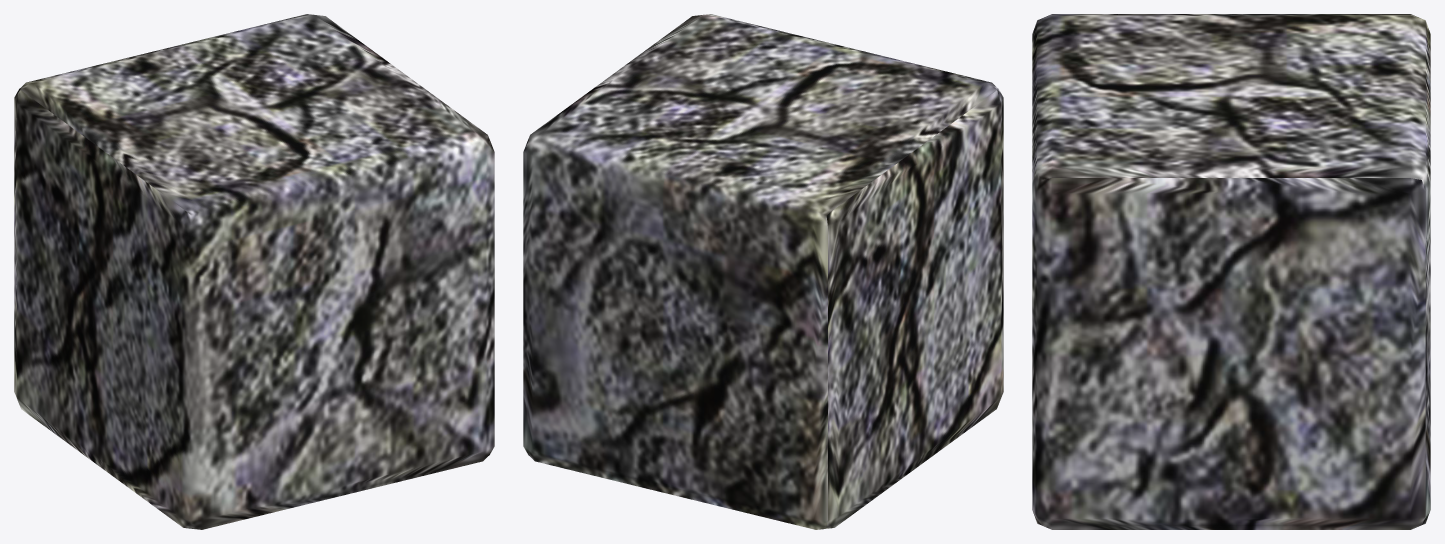
The model's file is Quadrock.fbx.
3 views of the same model, side by side, from view 1: azimuth 30°, elevation 25°; view 2: azimuth 150°, elevation 25°; view 3: azimuth 270°, elevation 25° (orthographic). The views are drawn at different scales.
Parts seen in each view (by area): view 1: rock; view 2: rock; view 3: rock.
Boxes of the visible parts, x1,y1,x2,y2 form: rock: [14, 14, 494, 529]; rock: [523, 14, 1003, 529]; rock: [1032, 14, 1430, 529].
Size of the model in its own units: 17.23 by 17.23 by 17.23.
1 material, 1 textured.
